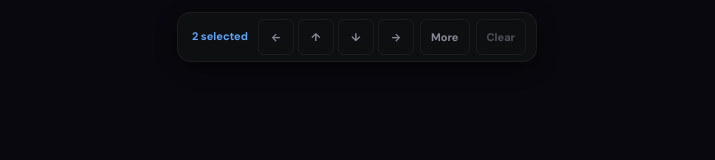
Scenario: starts compact and Escape closes actions without clearing selection
Check: the button "✕ Delete" is not shown
Click the button titled "More selection actions" at (445, 37), box left=420, top=19, right=470, bottom=55
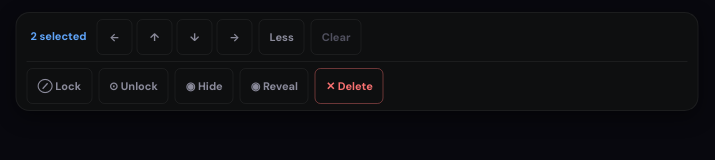
Check: the button "✕ Delete" is shown
Press Escape in the button "✕ Delete", box left=315, top=68, right=384, bottom=104
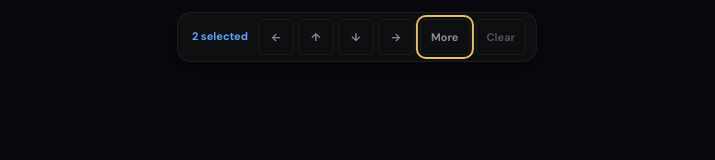
Check: the button "✕ Delete" is gone
